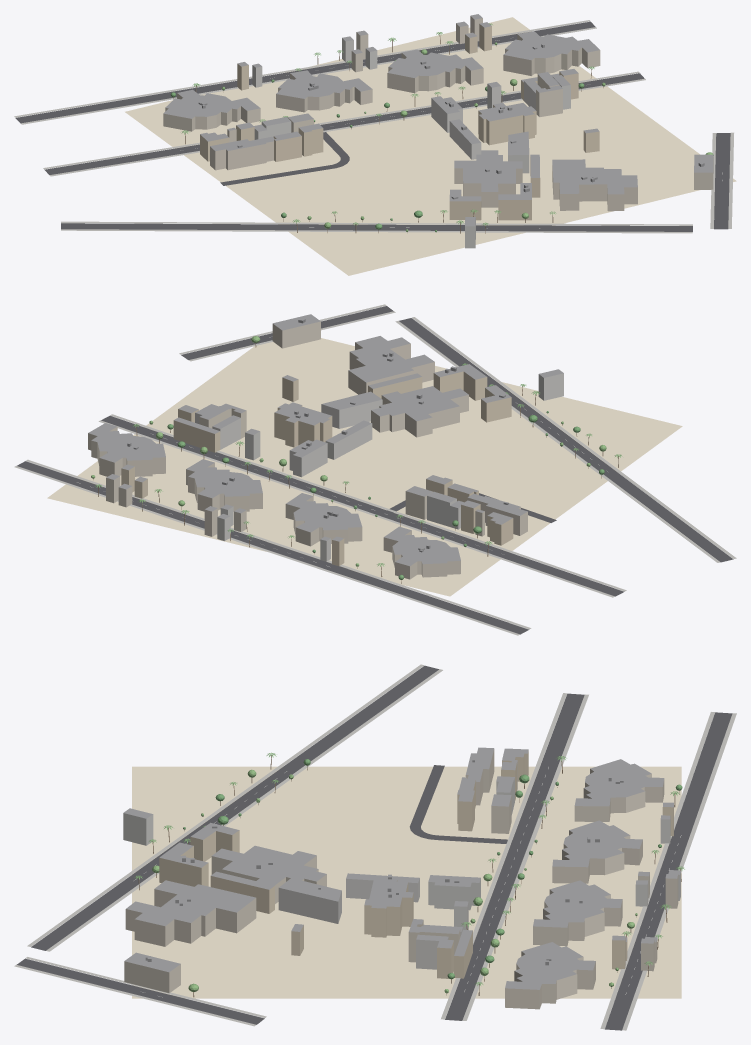
Rendered from tile_4_0.glb.
3 views of the same model, one above another, from view 1: azimuth 30°, elevation 25°; view 2: azimuth 150°, elevation 25°; view 3: azimuth 270°, elevation 25° (orthographic). The views are drawn at different scales.
Parts seen in each view (by area): view 1: nature_ground, buildings_roof, buildings_concrete_warm, roads_asphalt, roads_sidewalk, buildings_sandstone, buildings_concrete_light, nature_palm_leaf; view 2: nature_ground, buildings_roof, roads_asphalt, buildings_concrete_warm, roads_sidewalk, buildings_sandstone, buildings_concrete_light; view 3: nature_ground, buildings_roof, roads_asphalt, buildings_concrete_warm, roads_sidewalk, buildings_sandstone, buildings_concrete_light, nature_foliage_b, nature_foliage_a, nature_palm_leaf.
Part boxes in pixels (x1,y1,x2,y2): nature_ground: [125, 17, 736, 275]; buildings_roof: [163, 14, 713, 226]; buildings_concrete_warm: [163, 16, 713, 211]; roads_asphalt: [15, 21, 730, 231]; roads_sidewalk: [14, 20, 733, 233]; buildings_sandstone: [200, 24, 599, 220]; buildings_concrete_light: [252, 38, 570, 248]; nature_palm_leaf: [181, 23, 594, 225]; nature_ground: [47, 338, 682, 596]; buildings_roof: [88, 314, 563, 566]; roads_asphalt: [17, 306, 733, 634]; buildings_concrete_warm: [88, 321, 527, 579]; roads_sidewalk: [14, 304, 736, 635]; buildings_sandstone: [121, 371, 513, 566]; buildings_concrete_light: [195, 373, 563, 561]; nature_ground: [132, 766, 681, 998]; buildings_roof: [123, 747, 680, 989]; roads_asphalt: [17, 665, 732, 1030]; buildings_concrete_warm: [124, 749, 678, 1009]; roads_sidewalk: [14, 664, 736, 1030]; buildings_sandstone: [159, 751, 673, 978]; buildings_concrete_light: [123, 778, 680, 969]; nature_foliage_b: [152, 769, 637, 993]; nature_foliage_a: [183, 759, 682, 979]; nature_palm_leaf: [134, 752, 684, 985].
Bounding box in the file's own units: 394 × 16.37 × 329.
